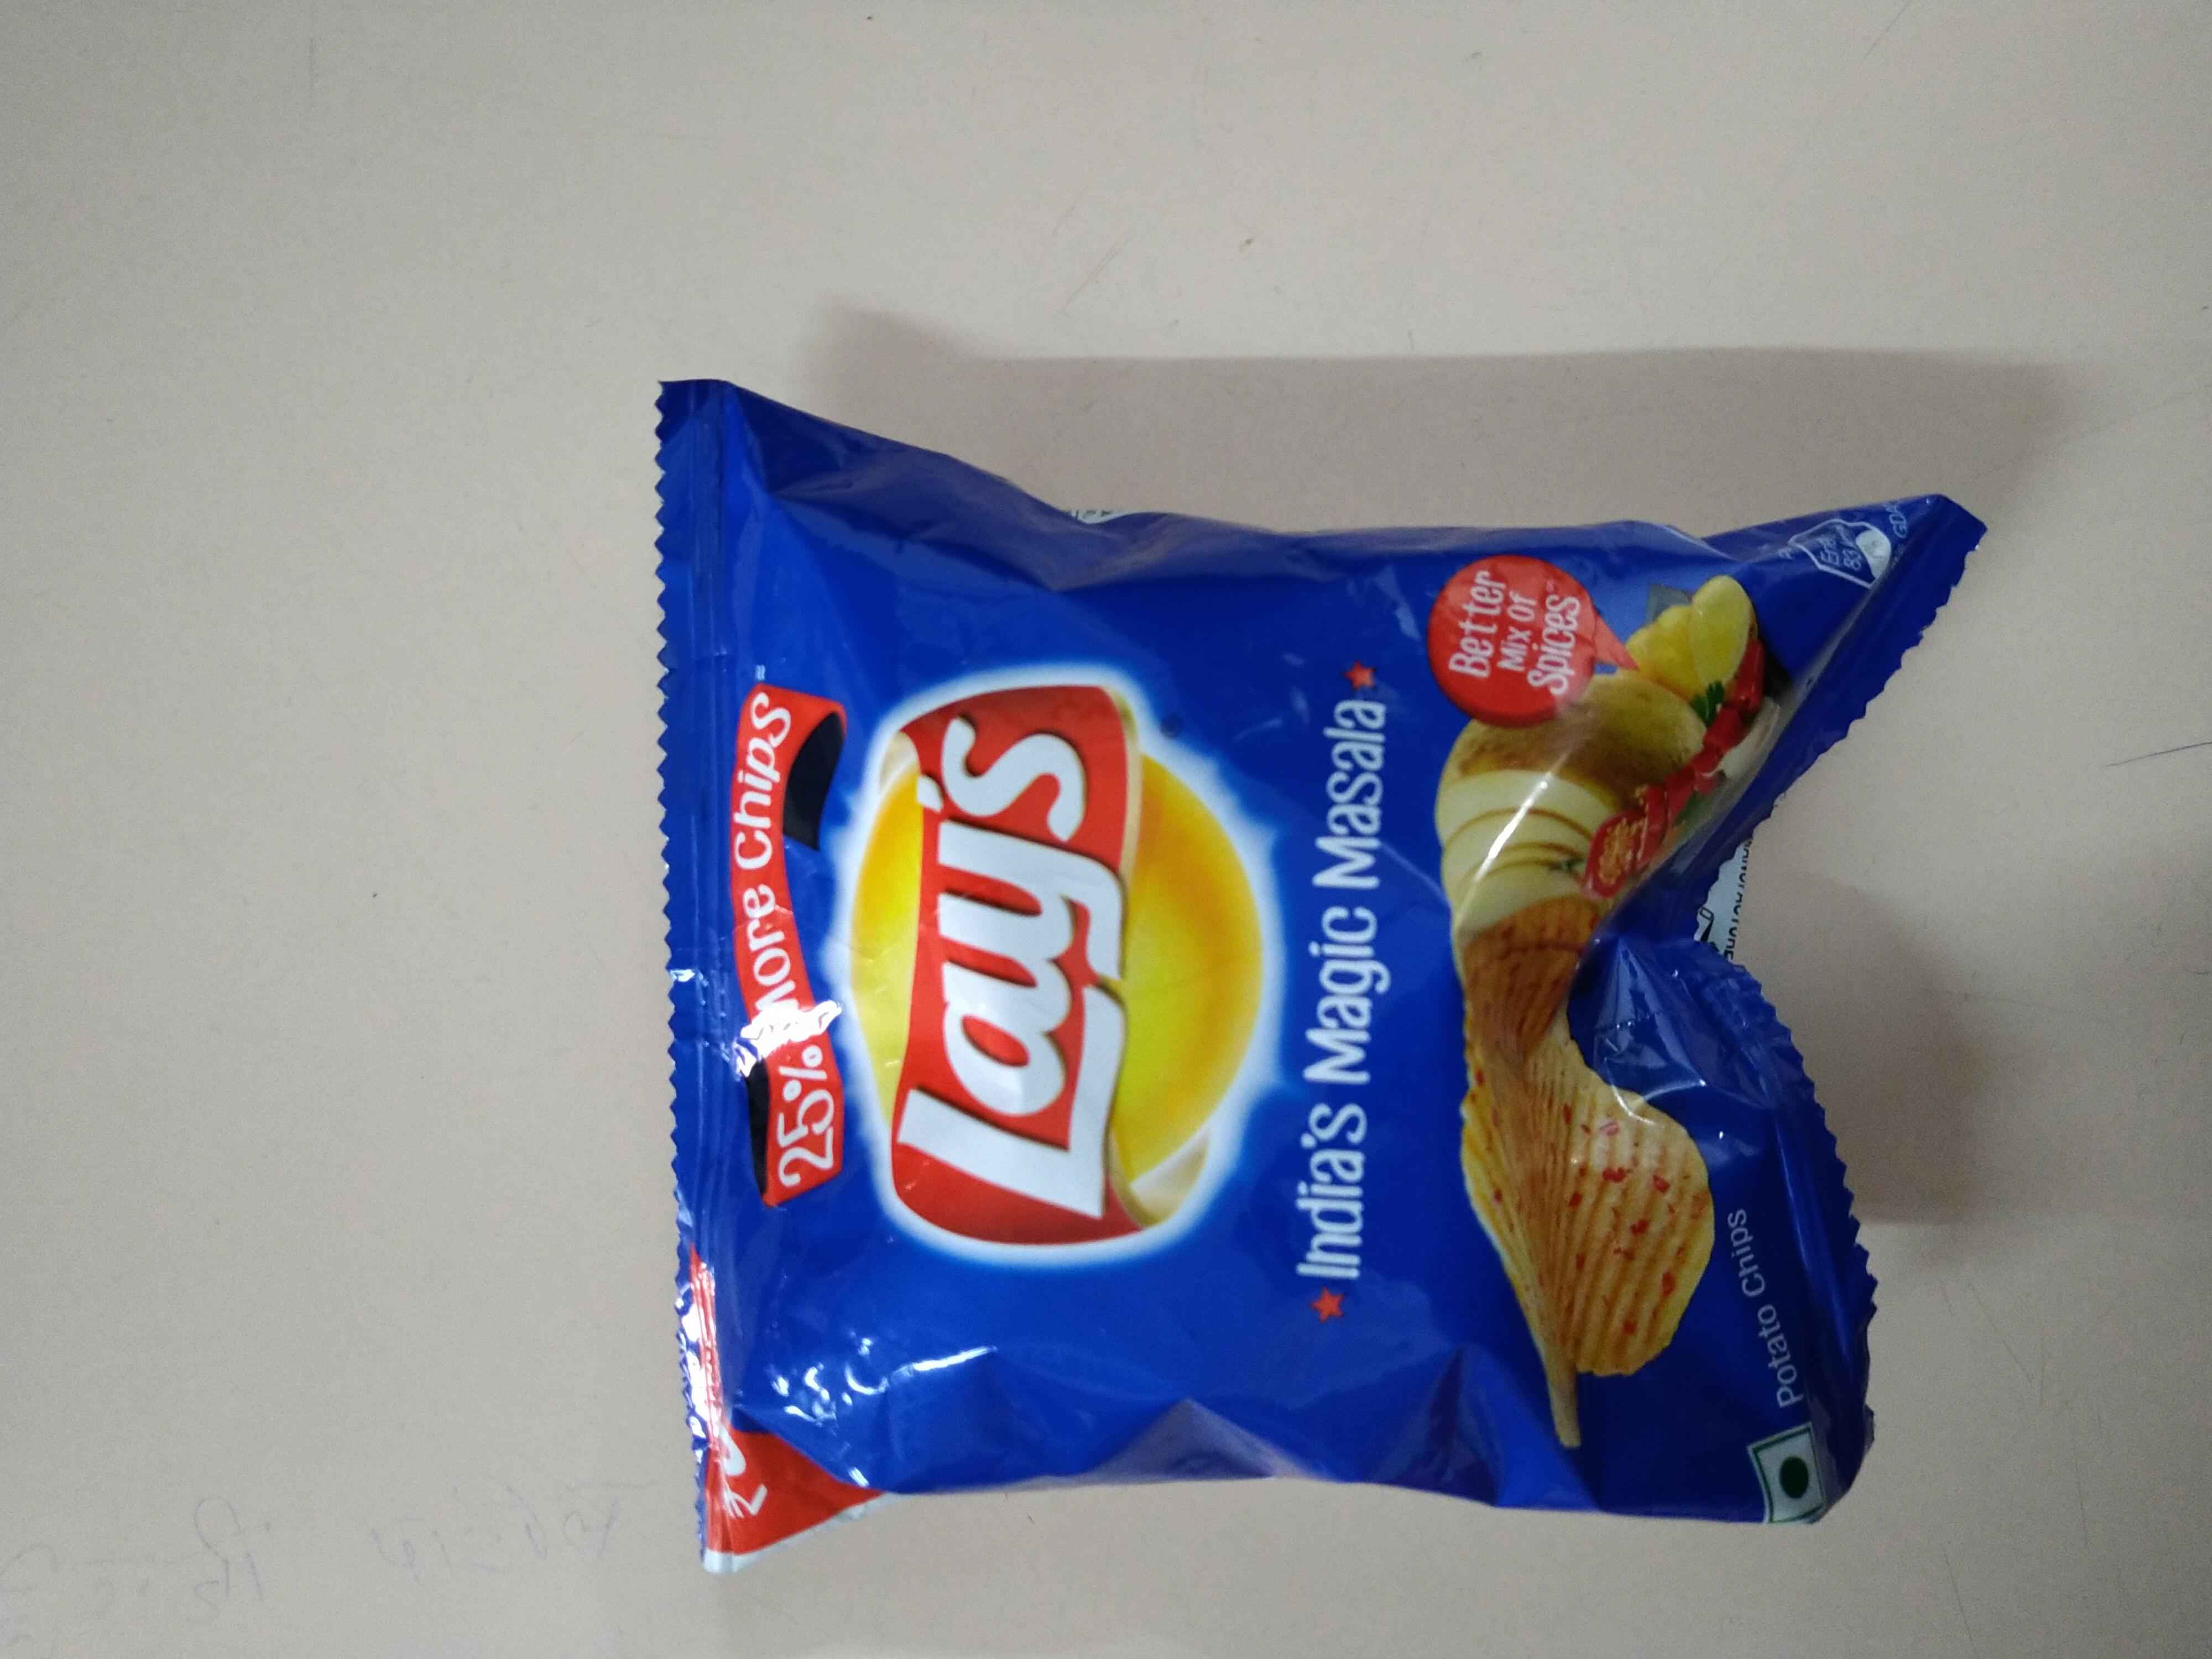Lays: (829, 669, 1277, 1244)
